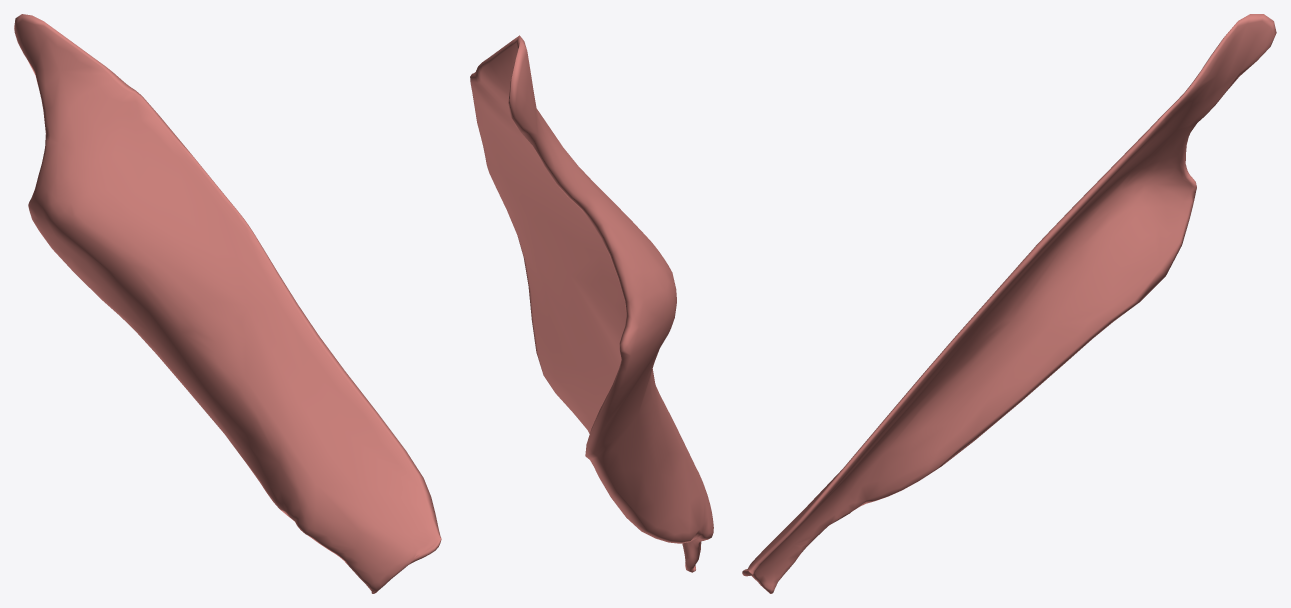
3 renders of one model, left to right at view 1: azimuth 30°, elevation 25°; view 2: azimuth 150°, elevation 25°; view 3: azimuth 270°, elevation 25°, orthographic. The views are drawn at different scales.
Visible parts, largest first — view 1: ZA_6019108f507d9bb2; view 2: ZA_6019108f507d9bb2; view 3: ZA_6019108f507d9bb2.
Boxes of the visible parts, <box> form: ZA_6019108f507d9bb2: <box>14,14,441,593</box>; ZA_6019108f507d9bb2: <box>470,35,713,572</box>; ZA_6019108f507d9bb2: <box>742,14,1276,593</box>.
Bounding box in the file's own units: 0.0207 × 0.0406 × 0.0386.
